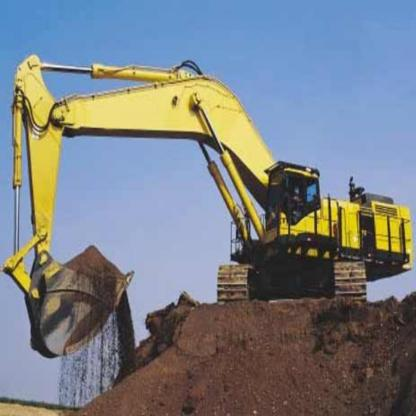excavator: (6, 46, 405, 362)
